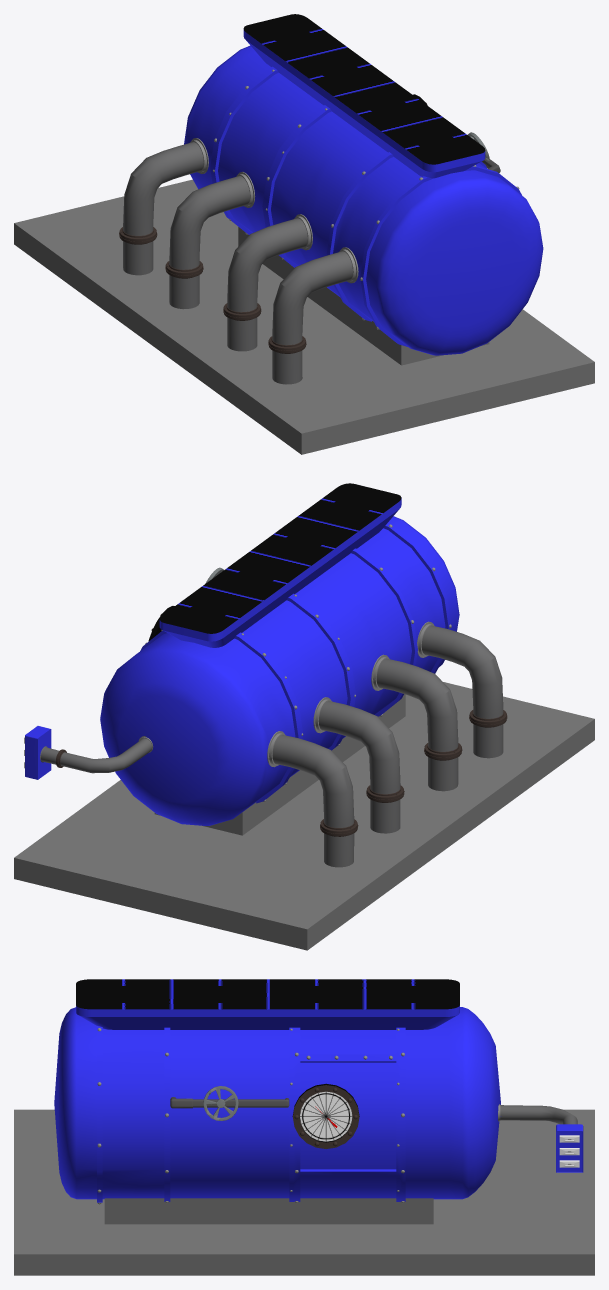
Rendered from Tank2.fbx.
The picture shows the model from 3 angles, top to bottom: view 1: azimuth 30°, elevation 25°; view 2: azimuth 150°, elevation 25°; view 3: azimuth 270°, elevation 25°; orthographic projection.
Parts seen in each view (by area): view 1: pCylinder21, pCube183, pCube271, pCube195, pCube204, pCube206, pCube202, pCube200; view 2: pCube183, pCylinder21, pCube271, pCube206, pCube202, pCube204, pCube195, pCube200, pCube510, pCube516; view 3: pCylinder21, pCube183, pCube271, pCube200, pCube182, pCube510, pCube516, pCube159, pCylinder22.
Boxes of the visible parts, x1,y1,x2,y2 form: pCylinder21: (184,45,543,355); pCube183: (14,179,594,454); pCube271: (243,14,485,178); pCube195: (123,142,203,275); pCube204: (227,218,307,351); pCube206: (272,251,352,384); pCube202: (169,176,249,309); pCube200: (238,227,489,365); pCube183: (14,682,594,950); pCylinder21: (100,516,459,825); pCube271: (159,483,401,647); pCube206: (421,625,503,758); pCube202: (318,701,400,833); pCube204: (376,658,458,791); pCube195: (272,735,354,867); pCube200: (154,694,405,835); pCube510: (40,736,153,773); pCube516: (25,726,51,779); pCylinder21: (54,1007,500,1202); pCube183: (14,1109,594,1275); pCube271: (76,979,459,1029); pCube200: (104,1198,433,1224); pCube182: (292,1083,359,1148); pCube510: (498,1104,577,1124); pCube516: (556,1124,583,1172); pCube159: (170,1097,289,1108); pCylinder22: (203,1086,238,1120).
Size of the model in its own units: 86.86 by 64.35 by 147.
4 materials, 3 textured.
